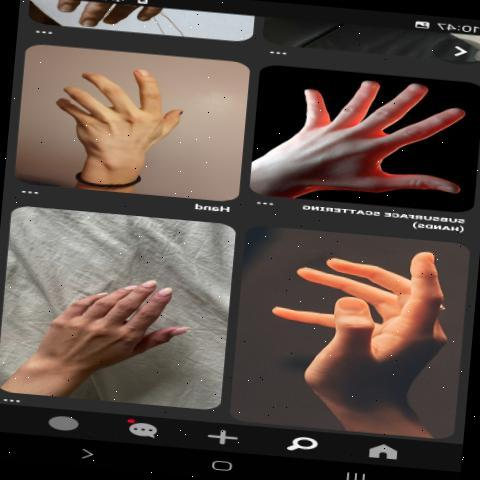Hands: (246, 238, 460, 409), (0, 221, 203, 384), (237, 73, 474, 206), (28, 66, 206, 174)
